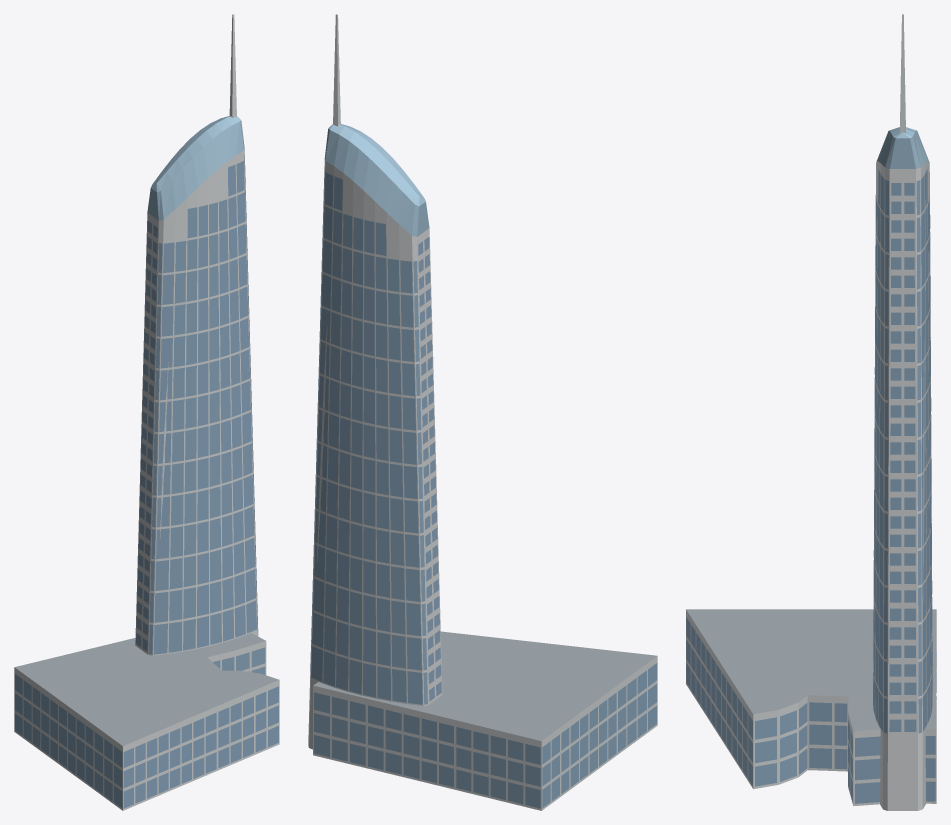
Rendered from la-wilshire-grand.glb.
The picture shows the model from 3 angles, left to right: view 1: azimuth 30°, elevation 25°; view 2: azimuth 150°, elevation 25°; view 3: azimuth 270°, elevation 25°; orthographic projection. The views are drawn at different scales.
Parts seen in each view (by area): view 1: Wilshire Grand Center; view 2: Wilshire Grand Center; view 3: Wilshire Grand Center.
Boxes of the visible parts, x1,y1,x2,y2 form: Wilshire Grand Center: [14, 14, 279, 810]; Wilshire Grand Center: [308, 14, 657, 810]; Wilshire Grand Center: [686, 14, 936, 810].
Bounding box in the file's own units: 116 × 335 × 97.05.
